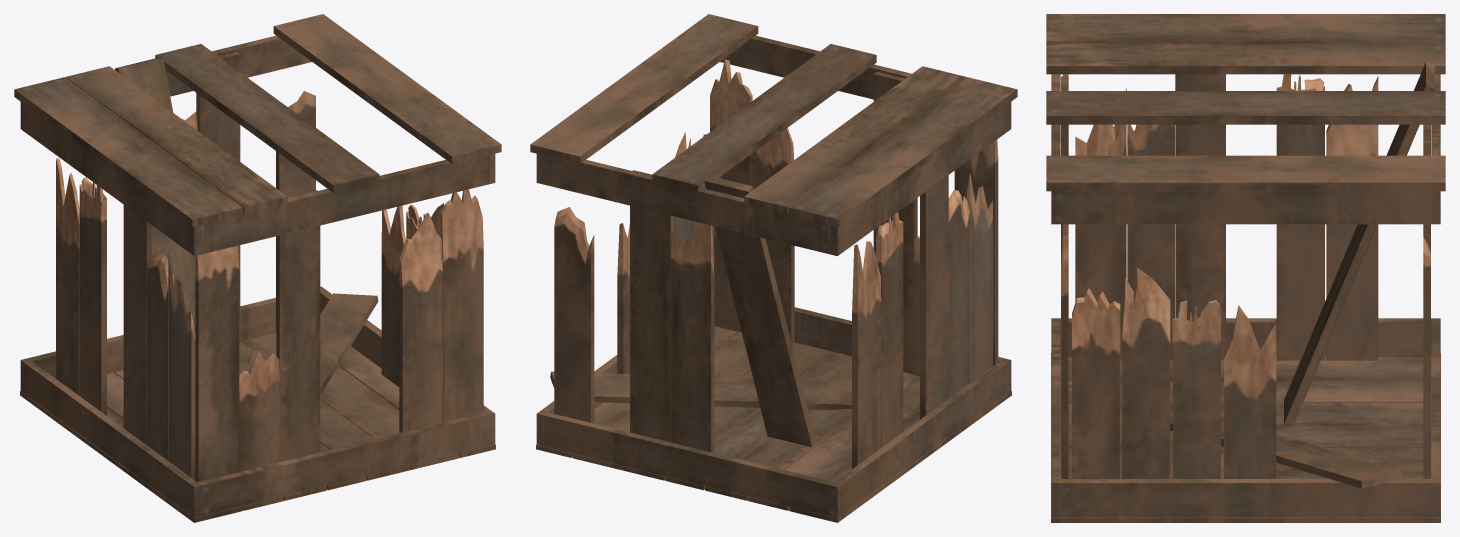
Rendered from DamagedCrate07.glb.
3 views of the same model, side by side, from view 1: azimuth 30°, elevation 25°; view 2: azimuth 150°, elevation 25°; view 3: azimuth 270°, elevation 25° (orthographic). The views are drawn at different scales.
Visible parts, largest first — view 1: Cube_008; view 2: Cube_008; view 3: Cube_008.
Part boxes in pixels (x1,y1,x2,y2): Cube_008: (14,14,501,522); Cube_008: (530,14,1017,522); Cube_008: (1046,14,1445,522).
Size of the model in its own units: 0.8655 by 0.7846 by 0.8184.
Materials: 1 (1 with a texture image).
